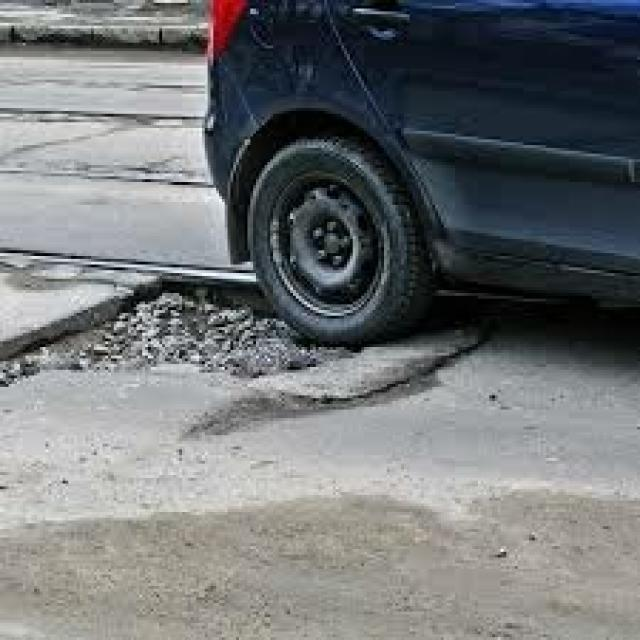Pothole: (8, 248, 370, 418)
